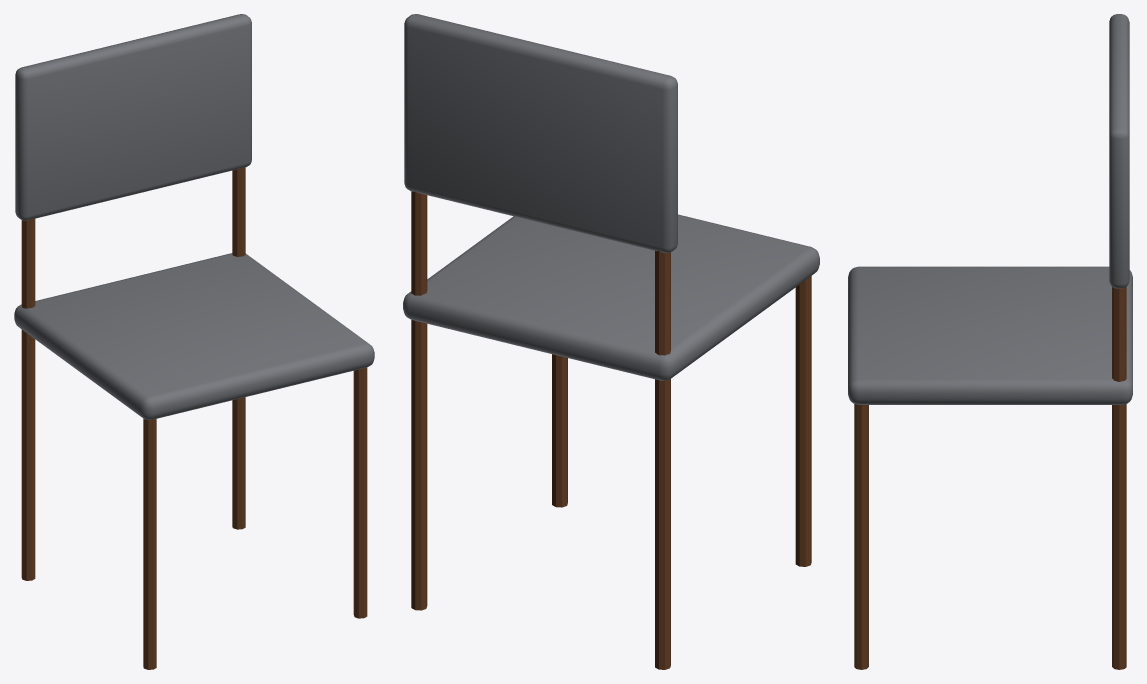
The model's file is furniture.seat.dining_chair.glb.
The picture shows the model from 3 angles, left to right: view 1: azimuth 30°, elevation 25°; view 2: azimuth 150°, elevation 25°; view 3: azimuth 270°, elevation 25°; orthographic projection. The views are drawn at different scales.
Parts seen in each view (by area): view 1: main__fabric_grey, main__hardwood; view 2: main__fabric_grey, main__hardwood; view 3: main__fabric_grey, main__hardwood.
Part boxes in pixels (left/top/right/bottom): main__fabric_grey: left=14, top=14, right=374, bottom=419; main__hardwood: left=21, top=167, right=367, bottom=669; main__fabric_grey: left=403, top=14, right=819, bottom=380; main__hardwood: left=411, top=191, right=811, bottom=669; main__fabric_grey: left=848, top=14, right=1132, bottom=404; main__hardwood: left=854, top=287, right=1126, bottom=669.
Size of the model in its own units: 0.42 by 0.88 by 0.42.
